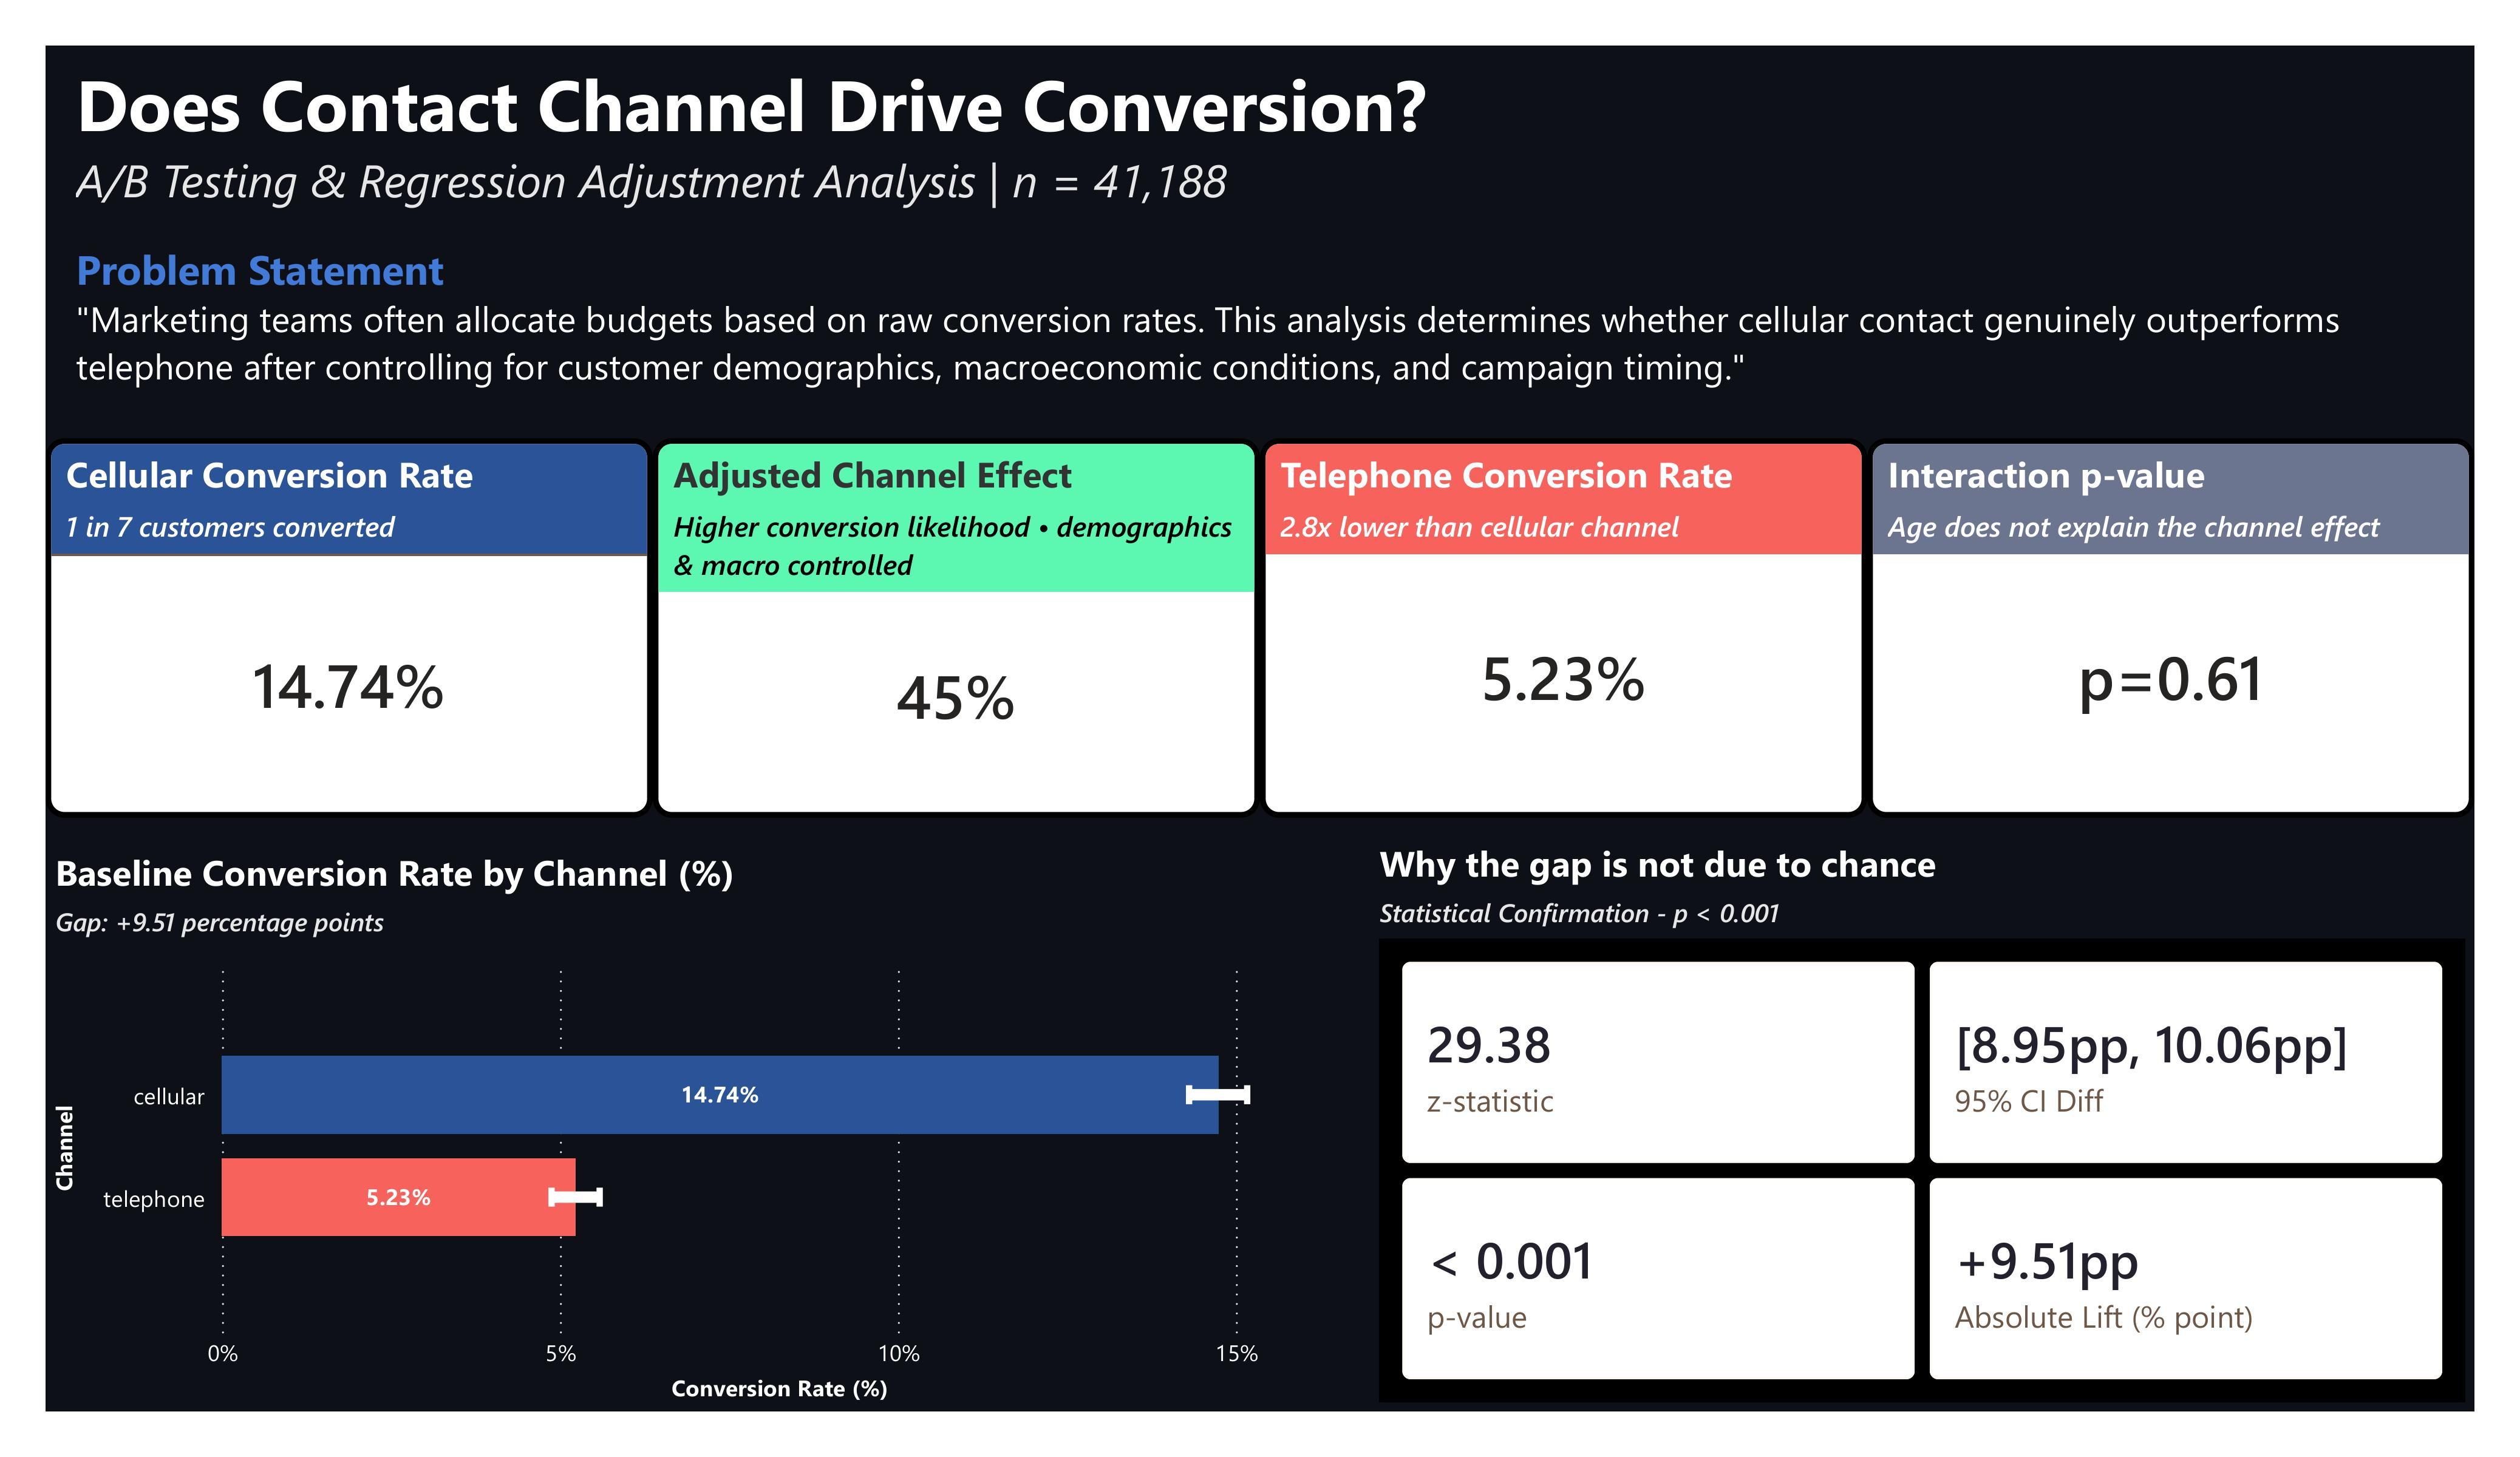

This screenshot's page, from the dashboard's own definition file:
{"tool":"powerbi","page":{"name":"Executive Overview + A/B Test results","canvas":[1280,720],"ordinal":0},"visuals":[{"type":"textbox","box":[10.9,0,1269.5,198.1],"z":0},{"type":"kpi","title":"Cellular Conversion Rate","fields":{"Indicator":["Sum(ab_channel_kpi.conversion_rate_pct)"],"TrendLine":["ab_channel_kpi.channel"]},"box":[0,207,320,200],"z":1000},{"type":"kpi","title":"Adjusted Channel Effect","fields":{"TrendLine":["glm_main_coefficients.term"],"Indicator":["Sum(glm_main_coefficients.adj_ch_effect)"]},"box":[320,207,320,200],"z":2000},{"type":"kpi","title":"Telephone Conversion Rate","fields":{"TrendLine":["ab_channel_kpi.channel"],"Indicator":["Sum(ab_channel_kpi.conversion_rate_pct)"]},"box":[640,207,320,200],"z":3000},{"type":"kpi","title":"Interaction p-value ","fields":{"Indicator":["Sum(glm_interaction_coefficients.p_value)"],"TrendLine":["glm_interaction_coefficients.term"]},"box":[960,207,320,200],"z":4000},{"type":"clusteredBarChart","title":"    Baseline Conversion Rate by Channel (%)","fields":{"Category":["ab_channel_kpi.channel"],"Y":["Sum(ab_channel_kpi.conversion_rate_pct)"]},"box":[0,418,698,302],"z":5000},{"type":"cardVisual","title":"Why the gap is not due to chance","fields":{"Data":["Sum(ab_test_meta.z_stat)","ab_test_meta.CI_Diff_Display","ab_test_meta.p_value_display","Sum(ab_test_meta.abs_lift_pct_point)"]},"box":[698,418,582,302],"z":6000}]}

Visuals, with their boxes on the page's 1280x720 design canvas (x1, y1, x2, y2). These are canvas units, not pixel positions in the 2520x1457 screenshot, which may show the page scaled, cropped or inside an application window:
textbox: <bbox>11, 0, 1280, 198</bbox>
"Cellular Conversion Rate" kpi: <bbox>0, 207, 320, 407</bbox>
"Adjusted Channel Effect" kpi: <bbox>320, 207, 640, 407</bbox>
"Telephone Conversion Rate" kpi: <bbox>640, 207, 960, 407</bbox>
"Interaction p-value " kpi: <bbox>960, 207, 1280, 407</bbox>
"    Baseline Conversion Rate by Channel (%)" clusteredBarChart: <bbox>0, 418, 698, 720</bbox>
"Why the gap is not due to chance" cardVisual: <bbox>698, 418, 1280, 720</bbox>
